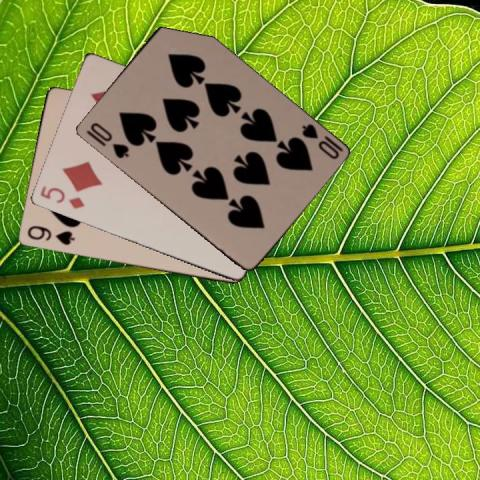10s: (87, 119, 130, 160), (298, 120, 341, 161)
5d: (37, 182, 86, 210)
9s: (24, 222, 76, 246)
